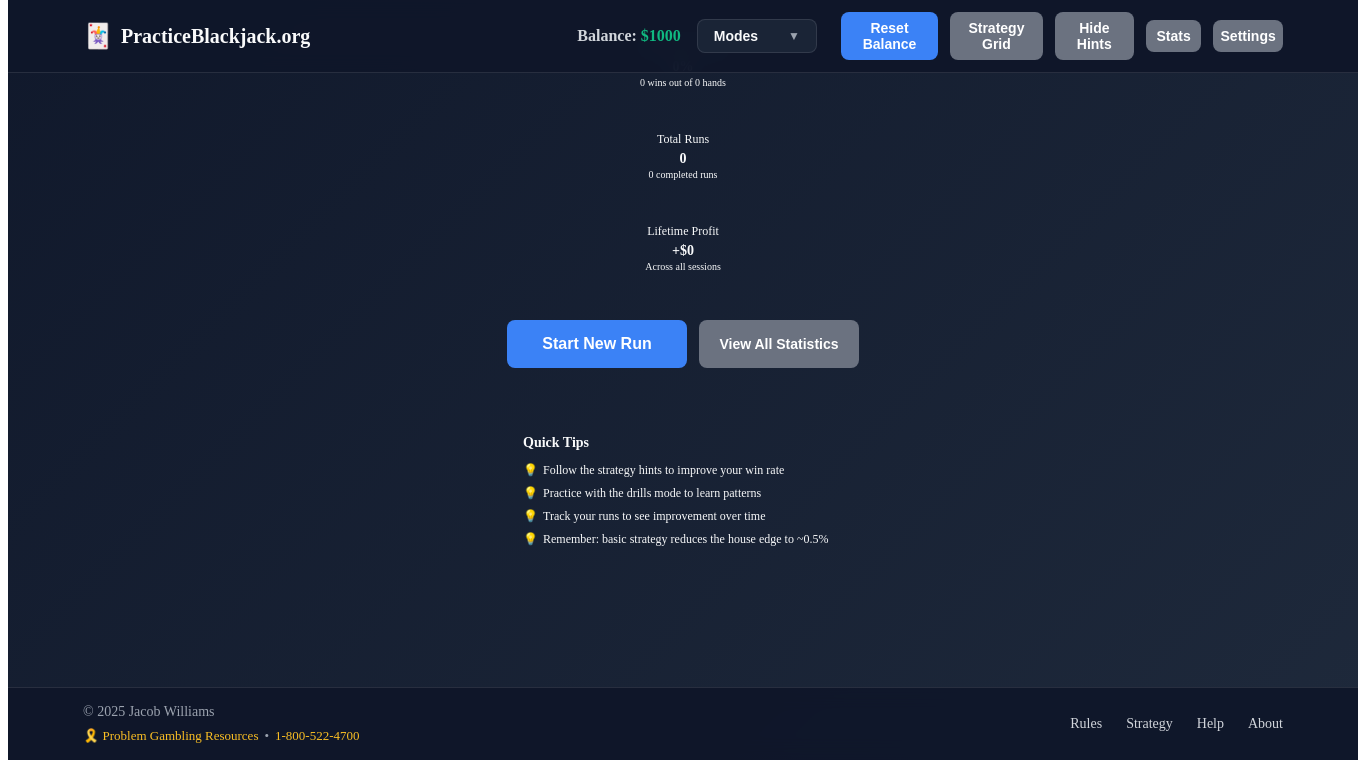
it: Game Flow Integration Tests › Modal Functionality › should open and close rules modal
(page scrolled)
# Click rules button
What coordinates should you click on to do the following:
click the button with aria-label "Game Rules"
I would click on:
 (1086, 724)
Its box is [1070,716,1102,732].
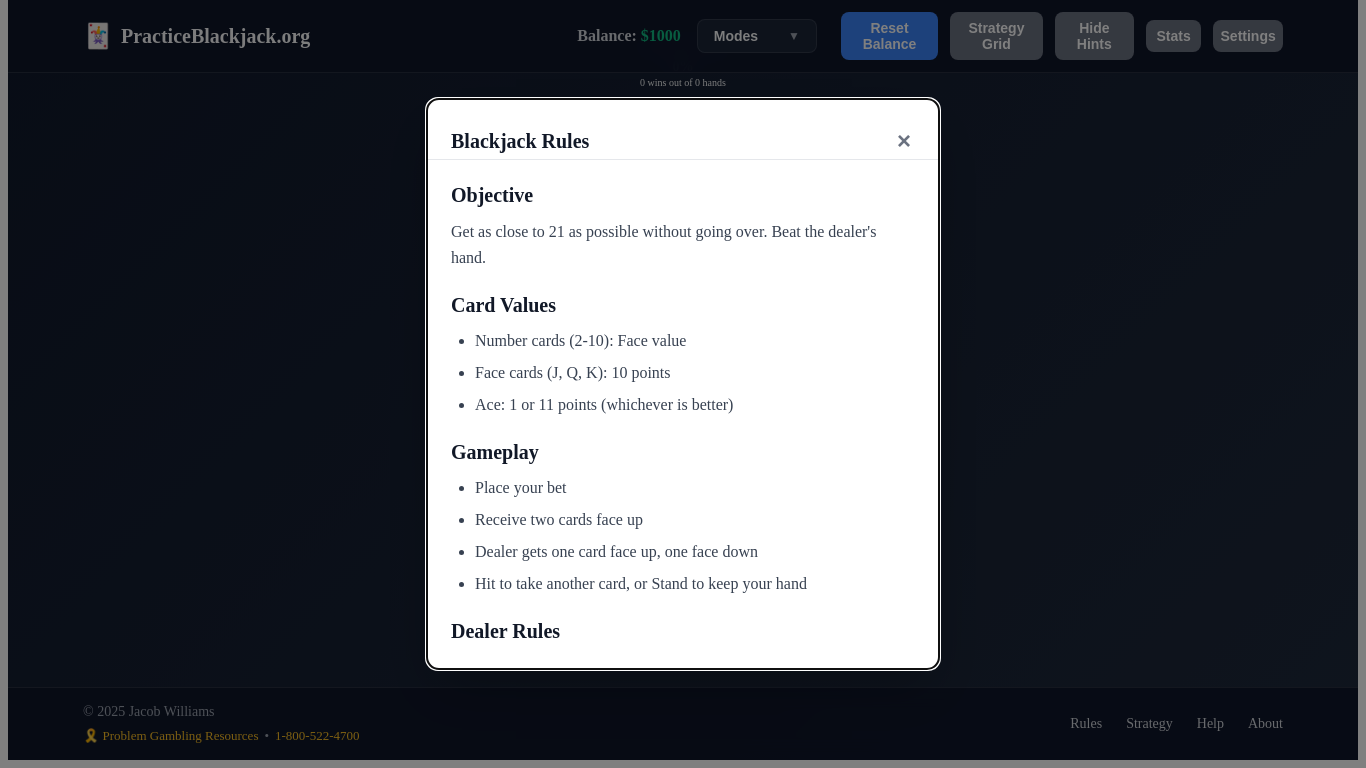
Check: the heading "Blackjack Rules" is shown, box [451,130,589,153]
Check: the heading "Objective" is shown, box [451,184,533,206]
# Close modal
What coordinates should you click on to do the following:
click the button "×"
I would click on:
 (904, 141)
Its box is [893,123,915,159].
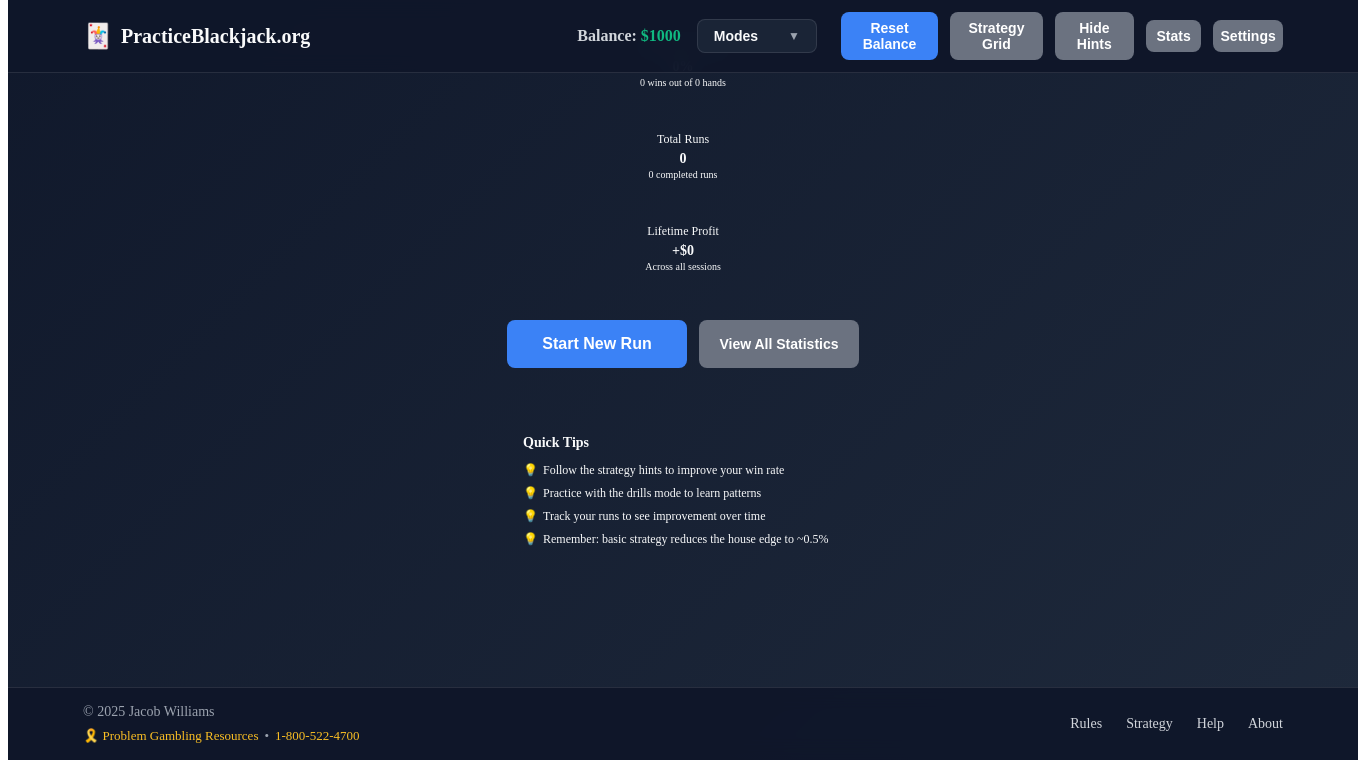
Check: the heading "Blackjack Rules" is gone
